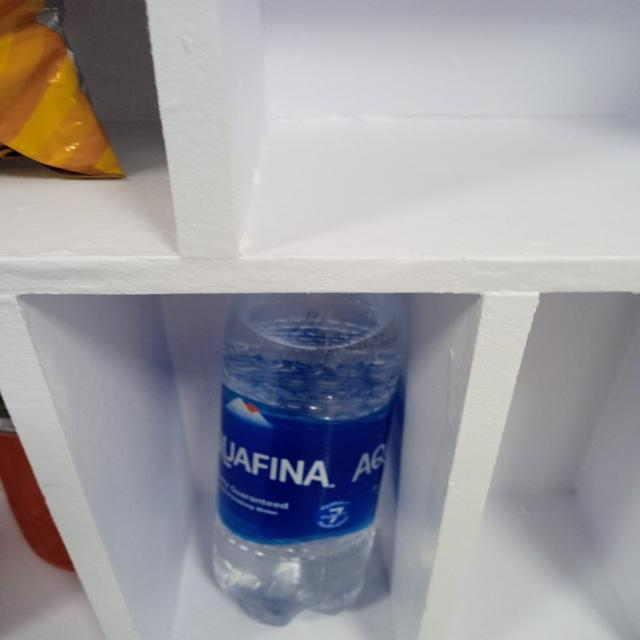Plastic: (219, 292, 400, 631), (0, 0, 123, 182), (0, 392, 72, 568)
